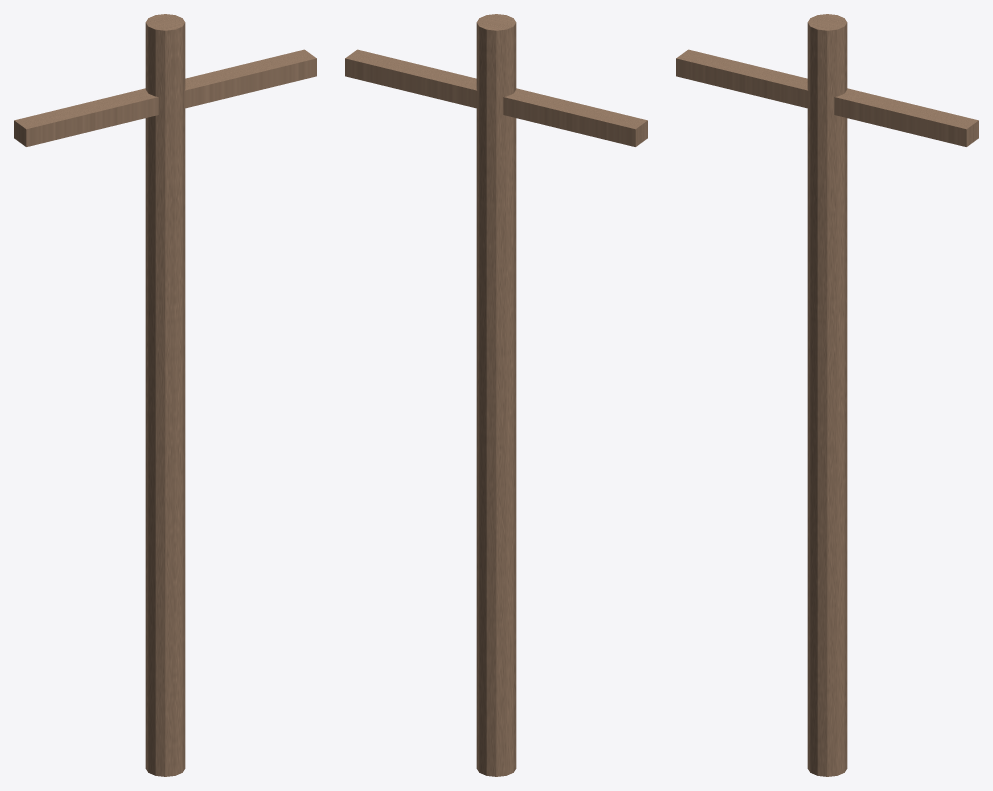
File: power_pole_lod2.glb
The picture shows the model from 3 angles, left to right: view 1: azimuth 30°, elevation 25°; view 2: azimuth 150°, elevation 25°; view 3: azimuth 330°, elevation 25°; orthographic projection.
Visible parts, largest first — view 1: world; view 2: world; view 3: world.
Part boxes in pixels (bbox=[...]): world: bbox=[14, 14, 316, 776]; world: bbox=[345, 14, 647, 776]; world: bbox=[676, 14, 978, 776].
Size of the model in its own units: 2.2 by 5.4 by 0.26.
Materials: 2 (2 with a texture image).
